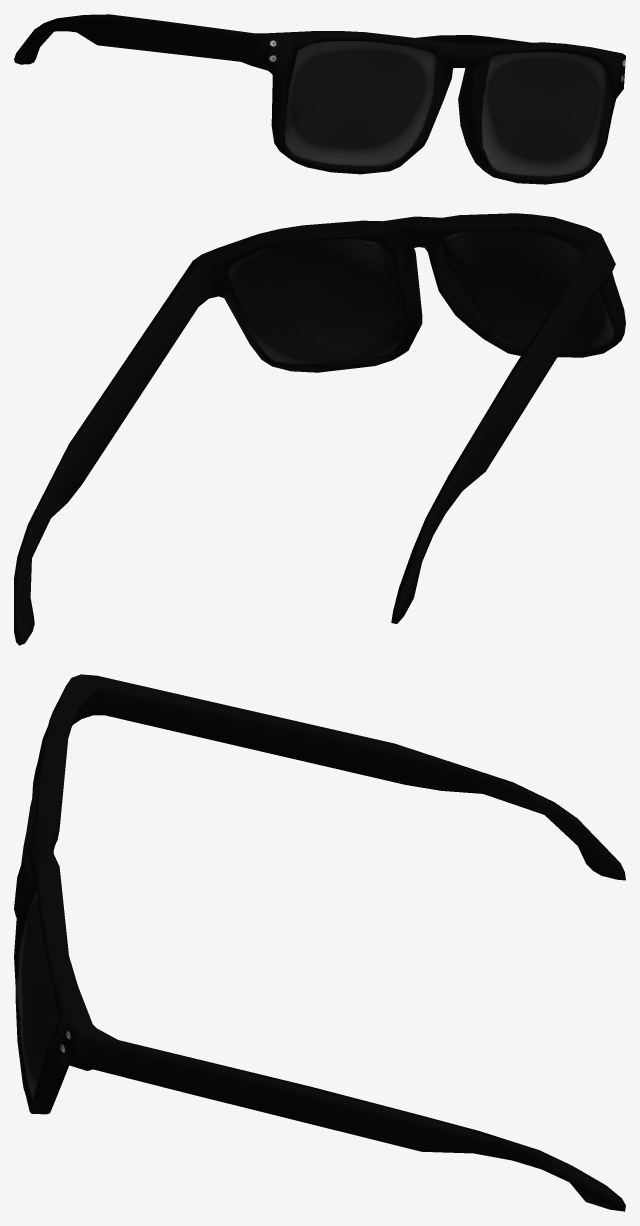
Rendered from specs-oakley-sport_lod_low.glb.
The picture shows the model from 3 angles, top to bottom: view 1: azimuth 30°, elevation 25°; view 2: azimuth 150°, elevation 25°; view 3: azimuth 270°, elevation 25°; orthographic projection. The views are drawn at different scales.
Parts seen in each view (by area): view 1: Glasses_Low; view 2: Glasses_Low; view 3: Glasses_Low.
Part boxes in pixels (left/top/right/bottom): Glasses_Low: left=14, top=14, right=625, bottom=184; Glasses_Low: left=14, top=213, right=625, bottom=645; Glasses_Low: left=14, top=674, right=625, bottom=1211.
Bounding box in the file's own units: 0.8254 × 0.5541 × 0.8704.
Materials: 1 (1 with a texture image).
